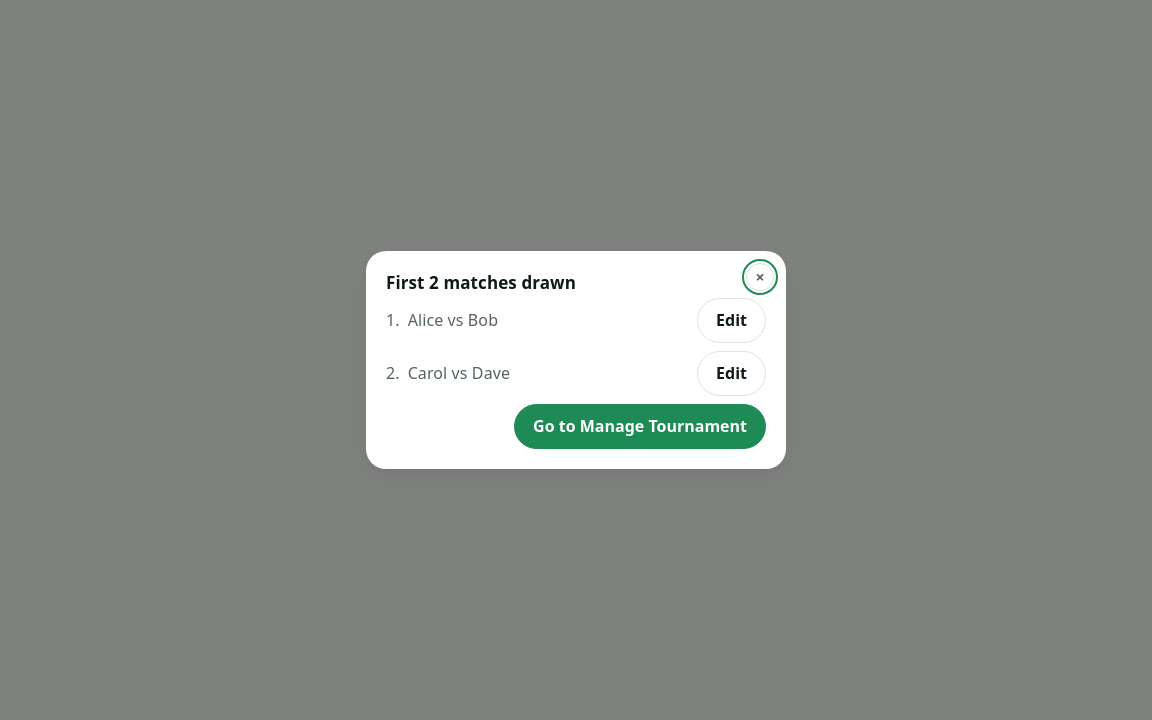
Test case: FirstMatchDrawnPopup › expands only the tapped row into pickers, and only one row at a time
Click the button "Edit" in the row of "Alice vs Bob": (732, 320) [697, 298, 766, 343]
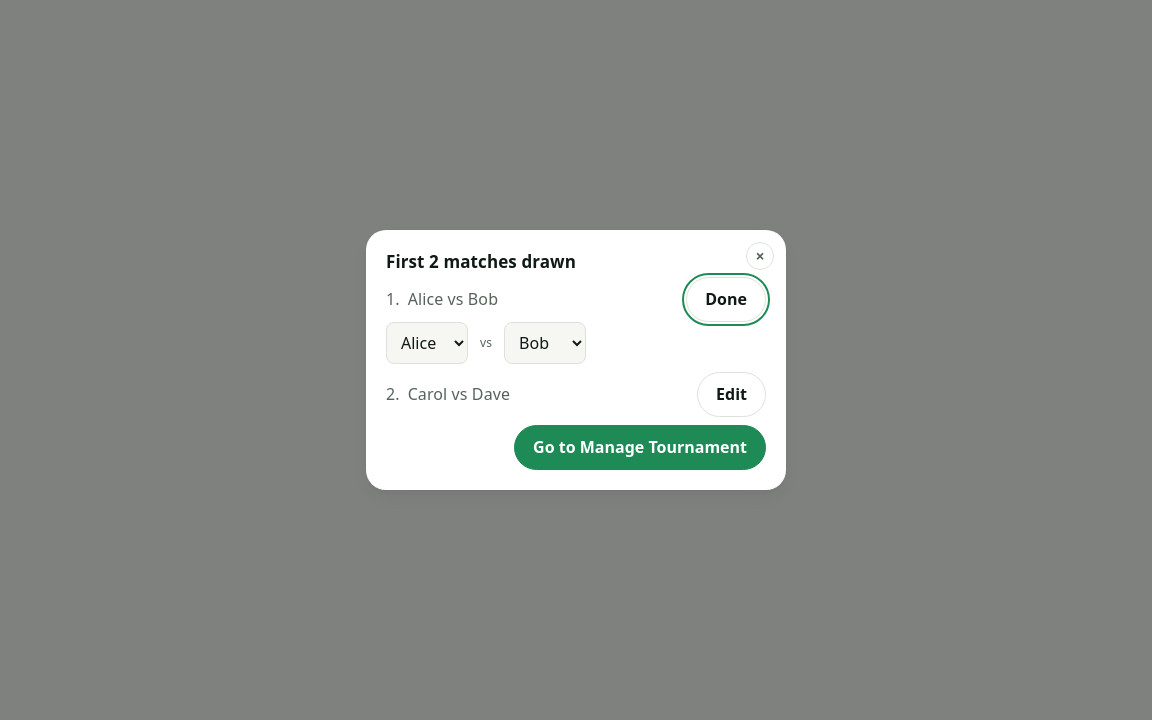
Expected: the number of dropdowns is 2, [386, 322, 468, 364]; [504, 322, 586, 364]
// Opening row 2 collapses row 1.
Click the button "Edit": (732, 395) [697, 372, 766, 417]
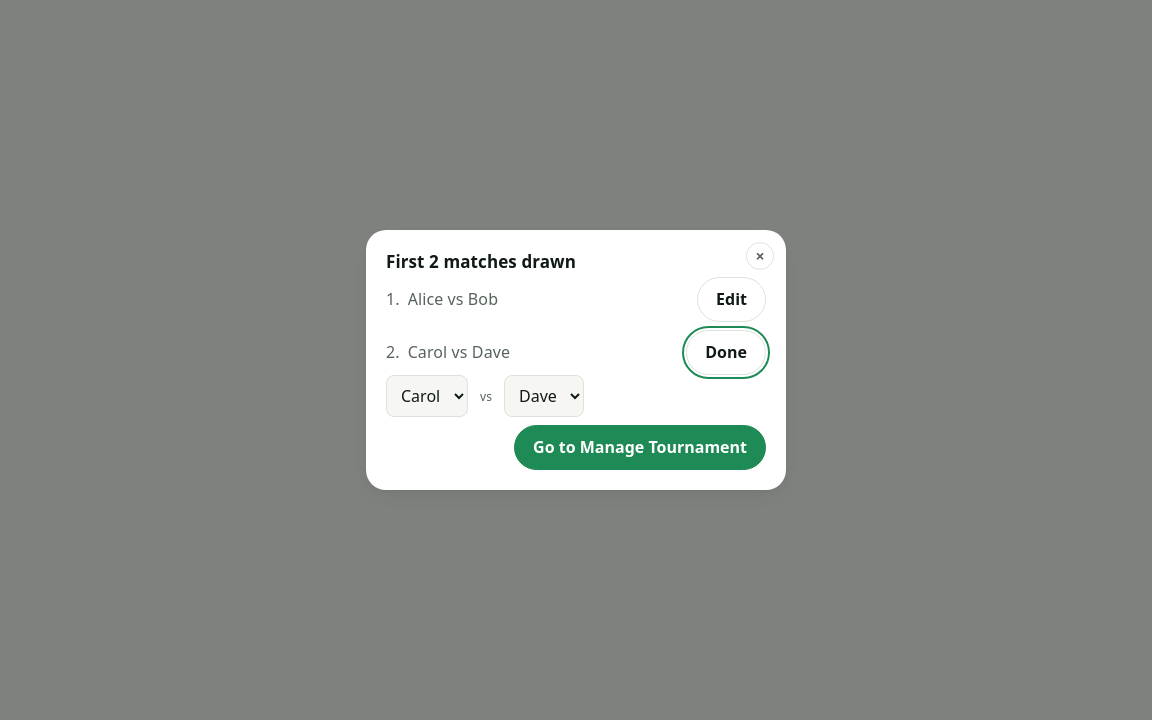
Expected: the number of dropdowns is 2, [386, 375, 468, 417]; [504, 375, 584, 417]
Click the button "Done": (726, 353) [686, 330, 766, 375]
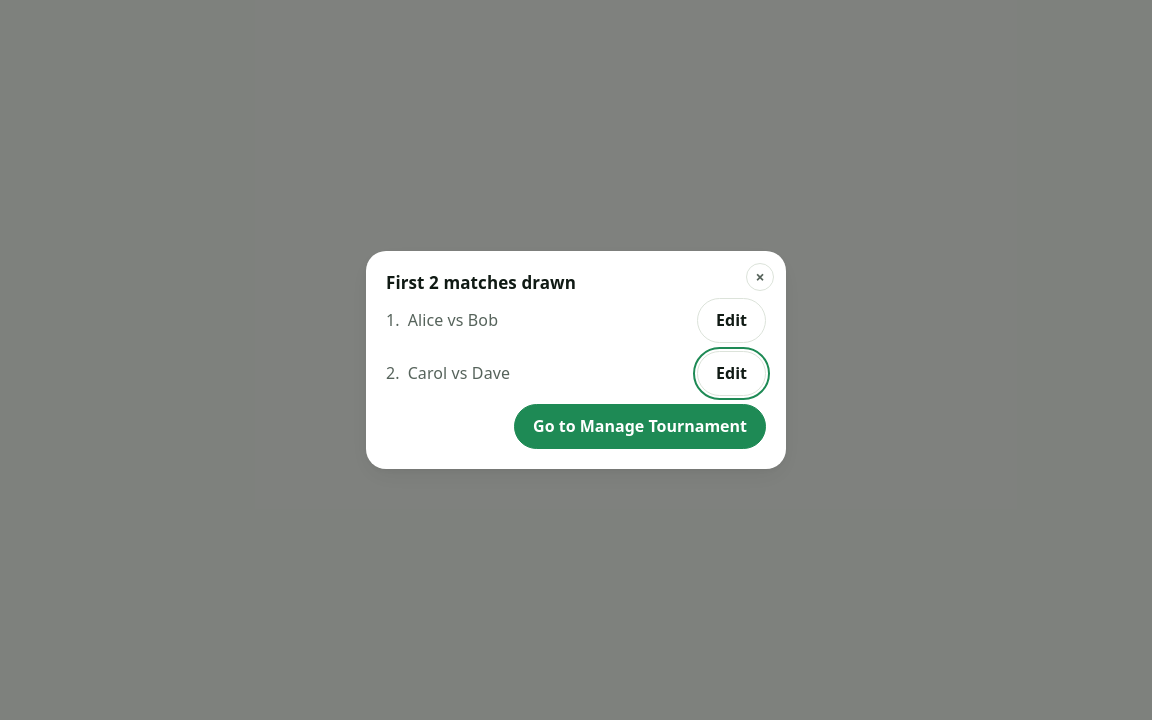
Expected: the dropdown is gone
